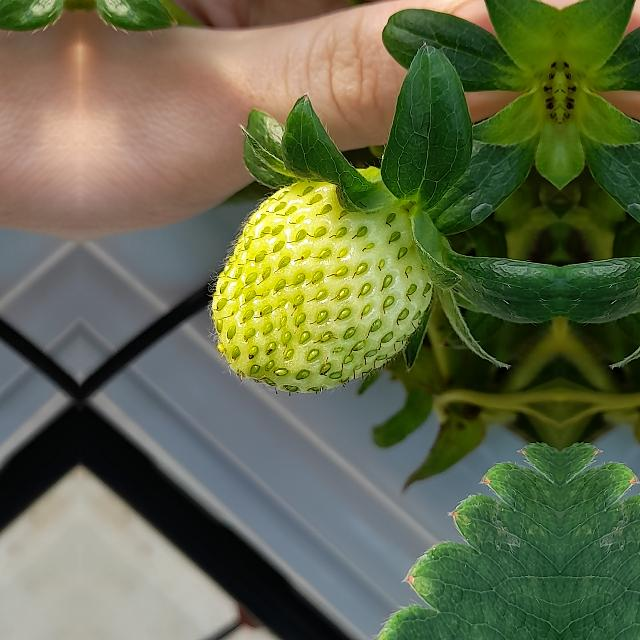Health_25: (204, 176, 433, 396)
